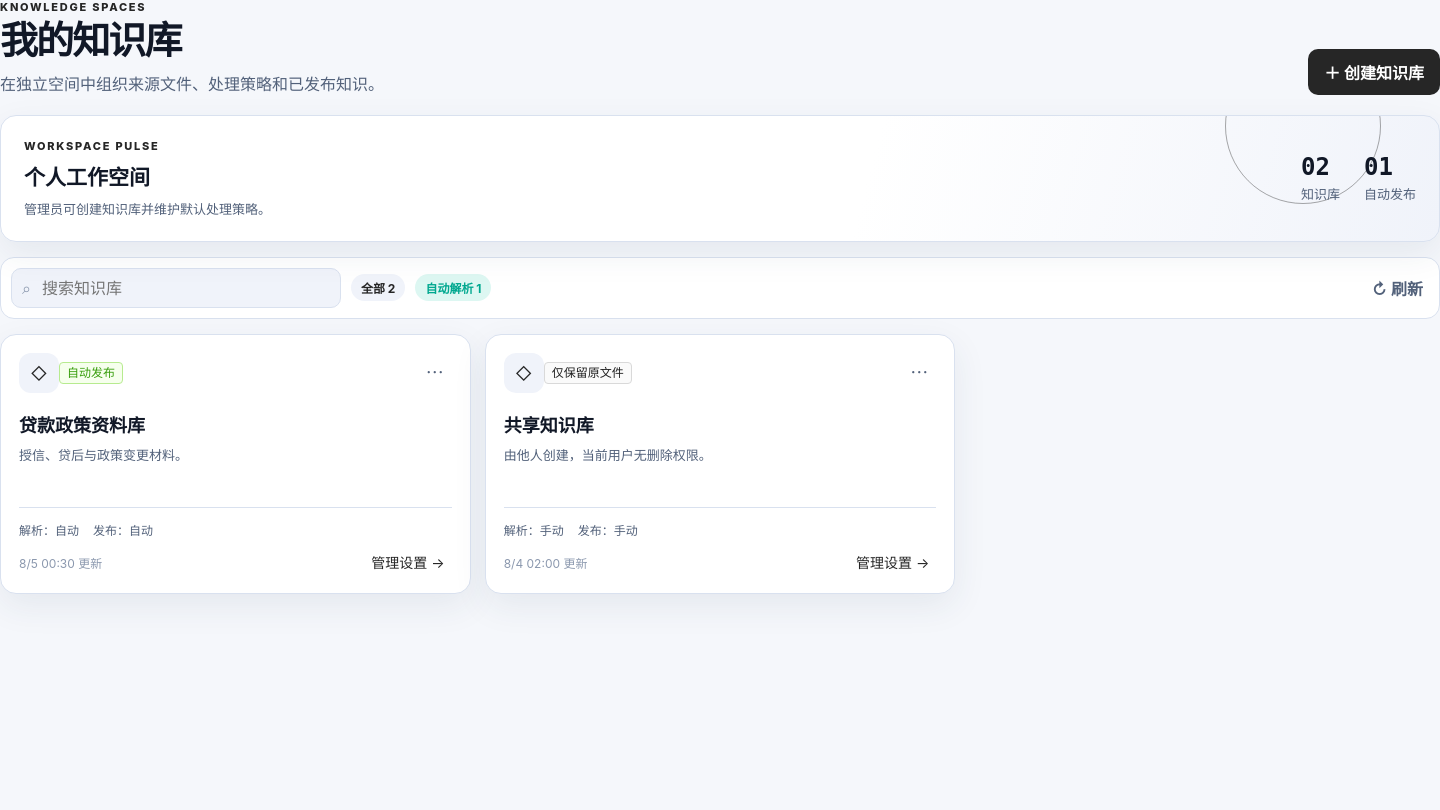
Scenario: KnowledgeBaseListView › loads knowledge bases and lets an administrator create one
Click the button with test id "create-knowledge-base".
click(1374, 72)  # box [1308,49,1439,95]
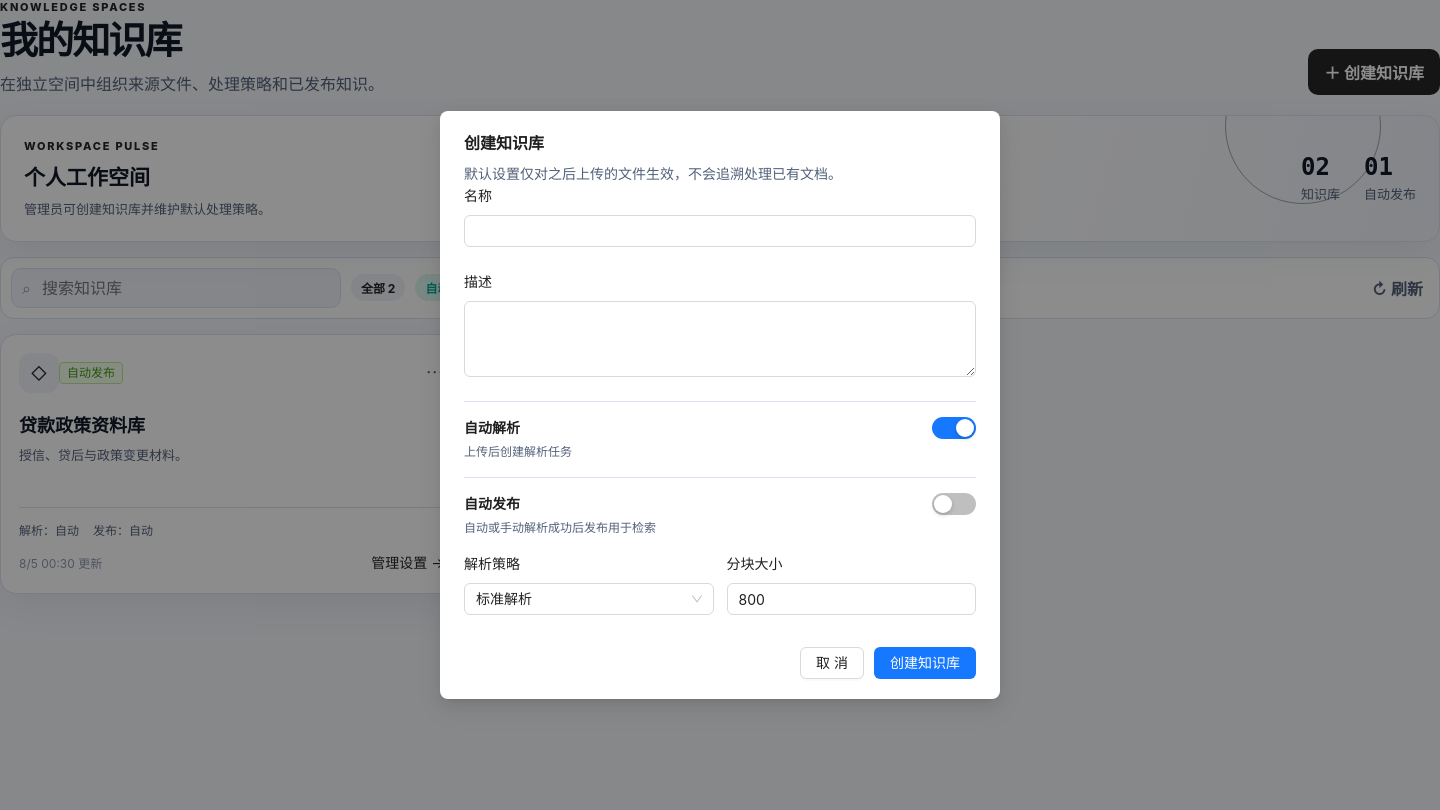
Type "风险策略研究库" into the field with test id "knowledge-base-name".
click(720, 231); type("风险策略研究库")  # box [464,215,976,247]
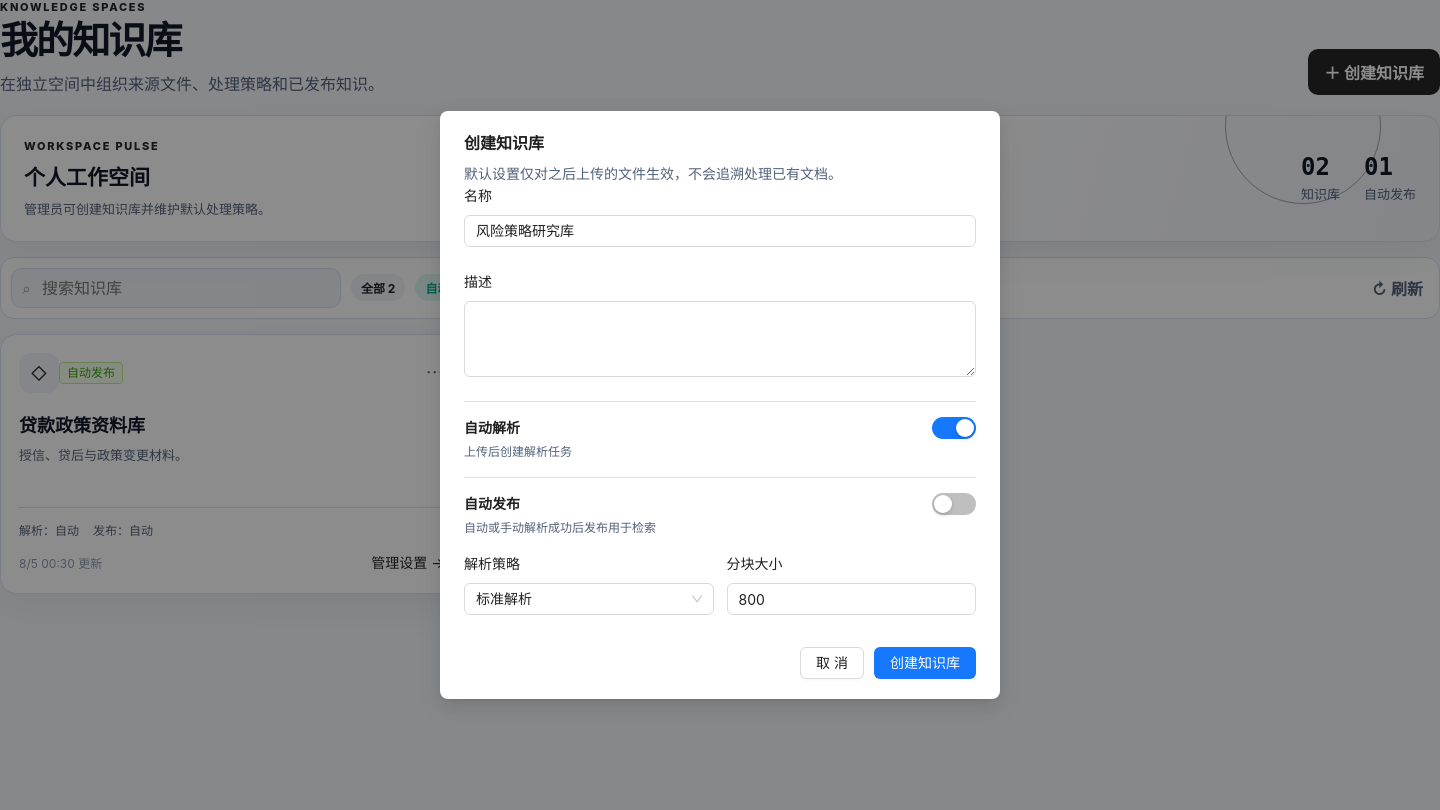
Type "风险研究材料。" into the text box with test id "knowledge-base-description".
click(720, 339); type("风险研究材料。")  # box [464,301,976,377]
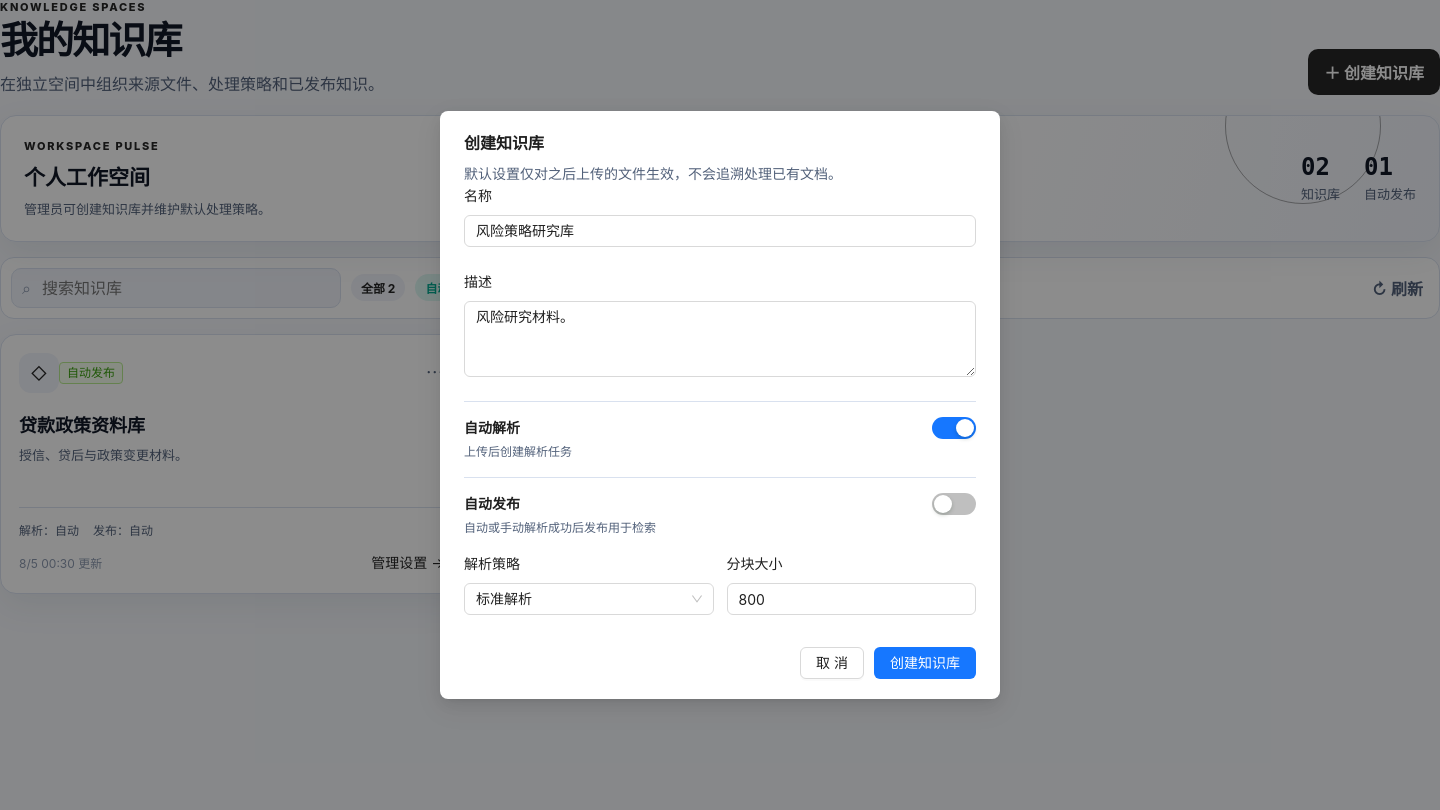
Submit the form, box [464,185,976,679]
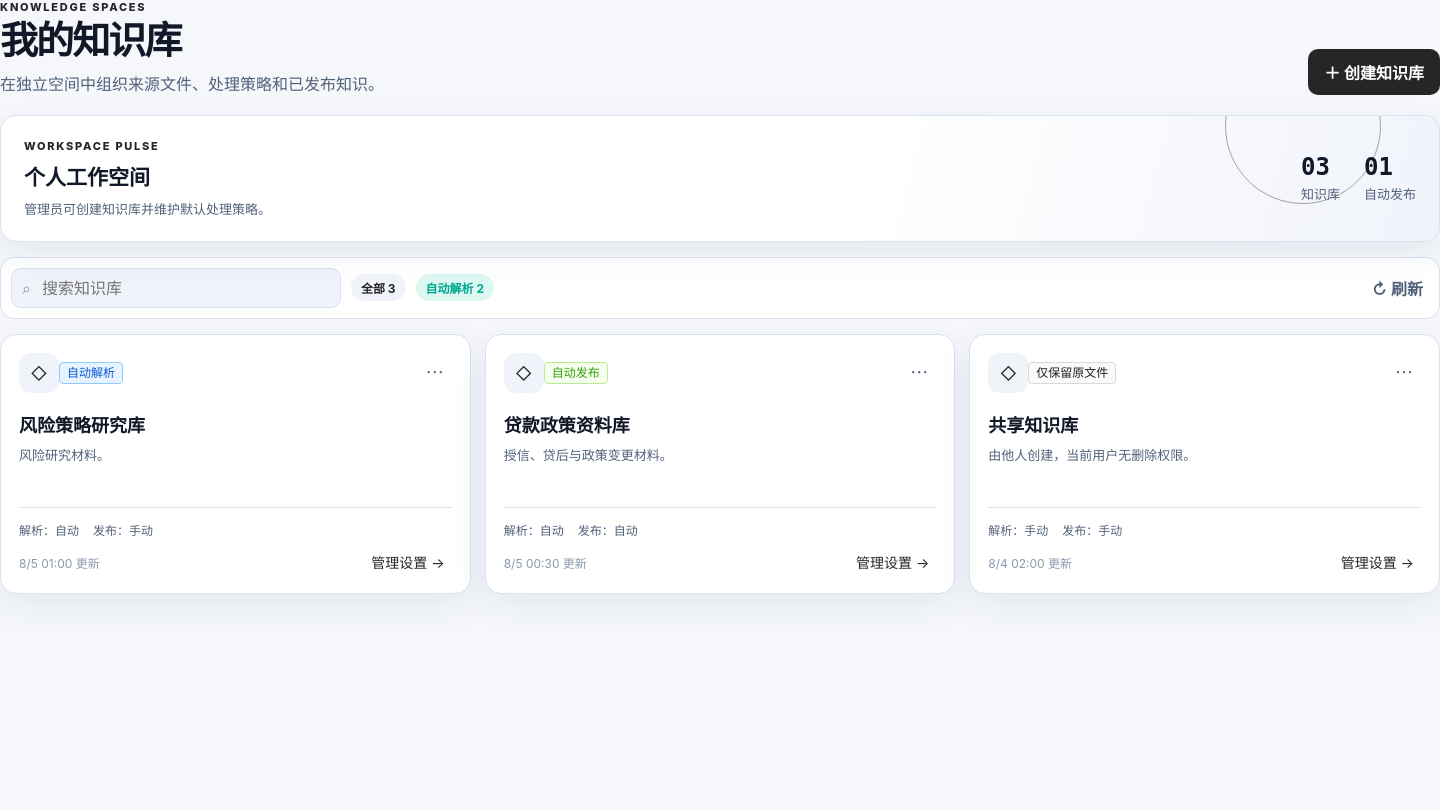
Result: the text "风险策略研究库" is shown at [19,415,145,436]
